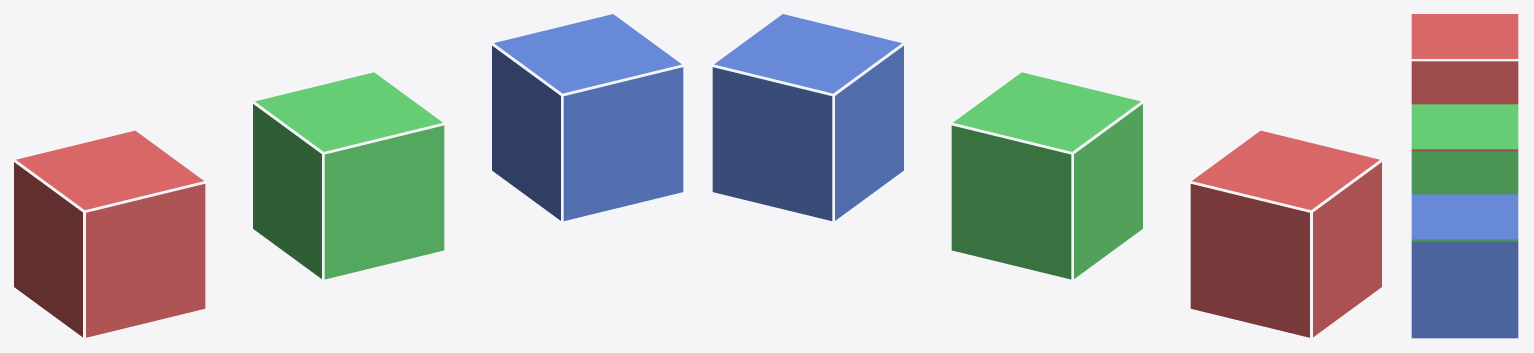
3 views of the same model, side by side, from view 1: azimuth 30°, elevation 25°; view 2: azimuth 150°, elevation 25°; view 3: azimuth 270°, elevation 25° (orthographic). The views are drawn at different scales.
Visible parts, largest first — view 1: BlueCube, GreenCube, RedCube; view 2: BlueCube, GreenCube, RedCube; view 3: BlueCube, GreenCube, RedCube.
Part boxes in pixels (box(x1,y1,x2,y2)): BlueCube: box(492, 14, 683, 220); GreenCube: box(253, 72, 444, 279); RedCube: box(14, 130, 205, 337); BlueCube: box(712, 14, 903, 220); GreenCube: box(951, 72, 1142, 279); RedCube: box(1190, 130, 1381, 337); BlueCube: box(1411, 194, 1518, 338); GreenCube: box(1411, 104, 1518, 241); RedCube: box(1411, 14, 1518, 151).
Size of the model in its own units: 5.03 by 1.03 by 1.03.
